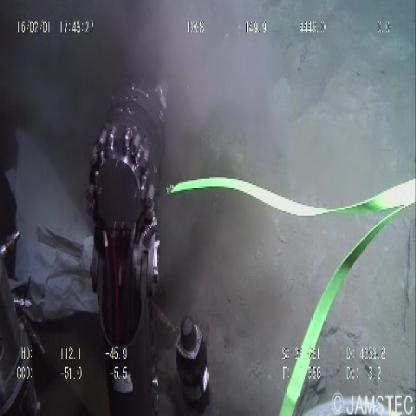Rov: (83, 66, 211, 416)
Rác: (1, 130, 103, 318)
